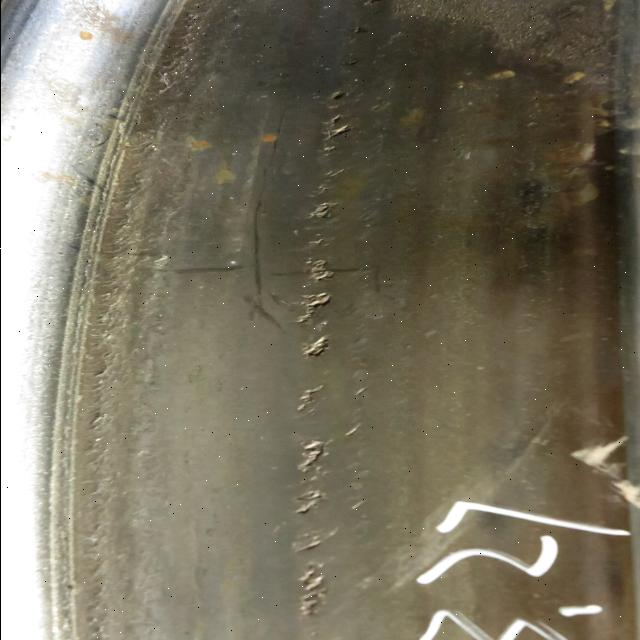boli: (288, 171, 354, 362), (285, 433, 343, 640), (307, 13, 363, 154)
